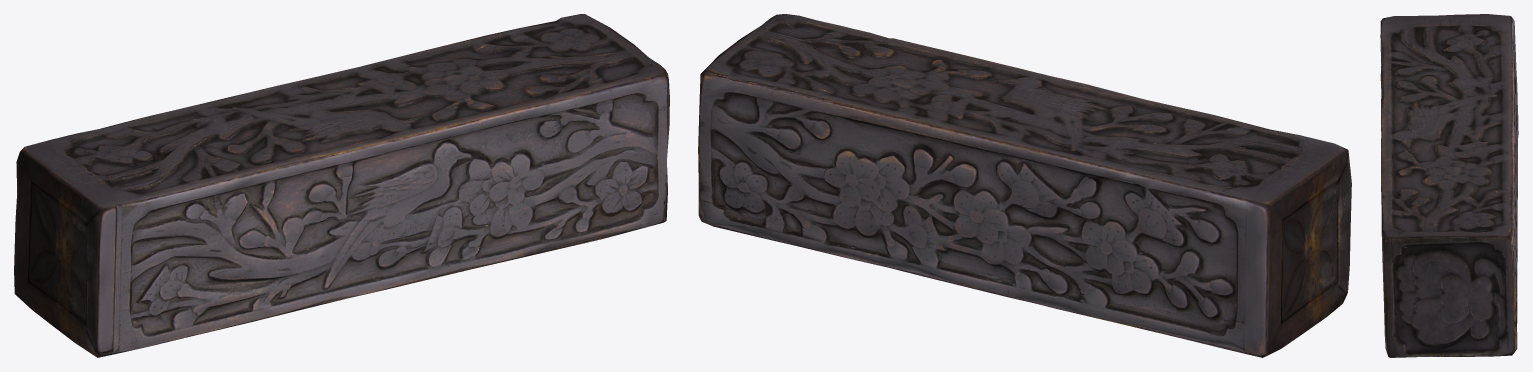
File: SM_Brush_Case.fbx
3 views of the same model, side by side, from view 1: azimuth 30°, elevation 25°; view 2: azimuth 150°, elevation 25°; view 3: azimuth 270°, elevation 25° (orthographic). The views are drawn at different scales.
Visible parts, largest first — view 1: KCDF_2022_prop_Brush_Case_Mesh; view 2: KCDF_2022_prop_Brush_Case_Mesh; view 3: KCDF_2022_prop_Brush_Case_Mesh.
Part boxes in pixels (x1,y1,x2,y2): KCDF_2022_prop_Brush_Case_Mesh: [14, 14, 669, 357]; KCDF_2022_prop_Brush_Case_Mesh: [698, 14, 1351, 357]; KCDF_2022_prop_Brush_Case_Mesh: [1380, 14, 1518, 357].
Size of the model in its own units: 58.52 by 15.41 by 15.41.
1 material, 1 textured.
